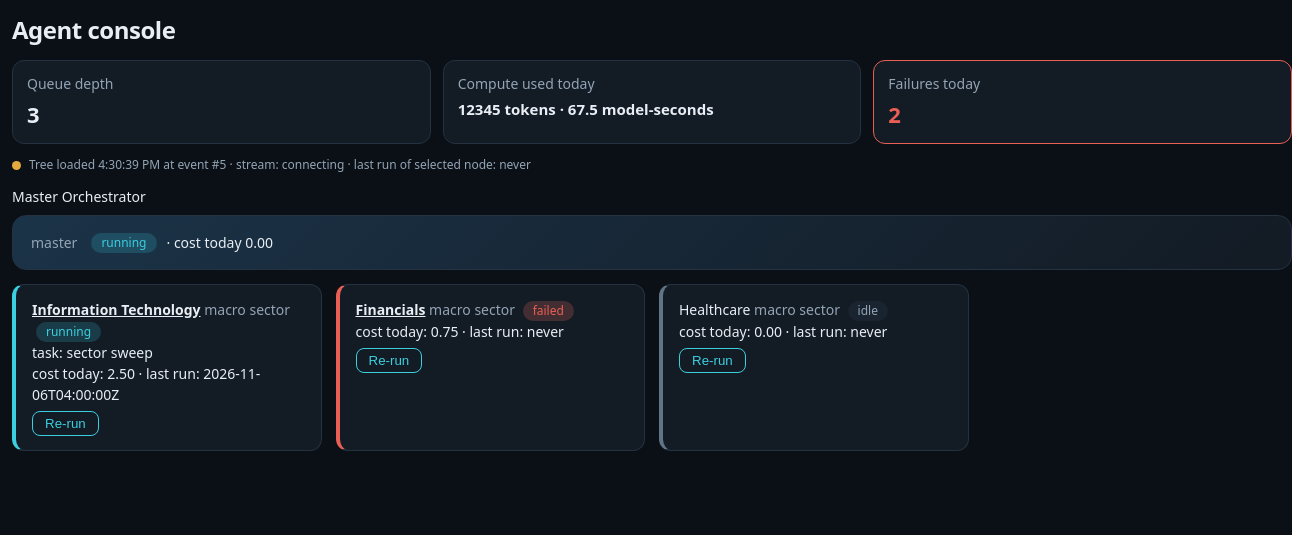
Scenario: agent console › a new re-run clears the previous message for that node
The image size is (1292, 535).
What coordinates should you click on to do the following:
click the button with aria-label "re-run Information Technology"
I would click on:
 (65, 424)
Its box is [32, 411, 99, 436].
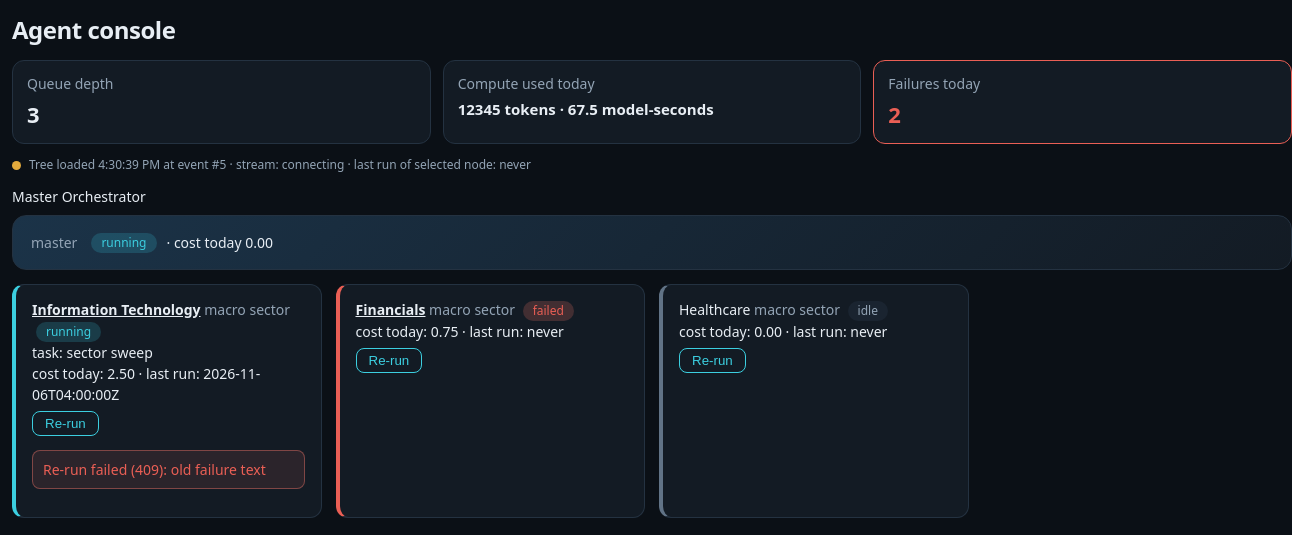
Expected: the text "Re-run failed (409): old failure text" is shown, [32, 450, 304, 489]
What coordinates should you click on to do the following:
click the button with aria-label "re-run Information Technology"
I would click on:
 (65, 424)
Its box is [32, 411, 99, 436].
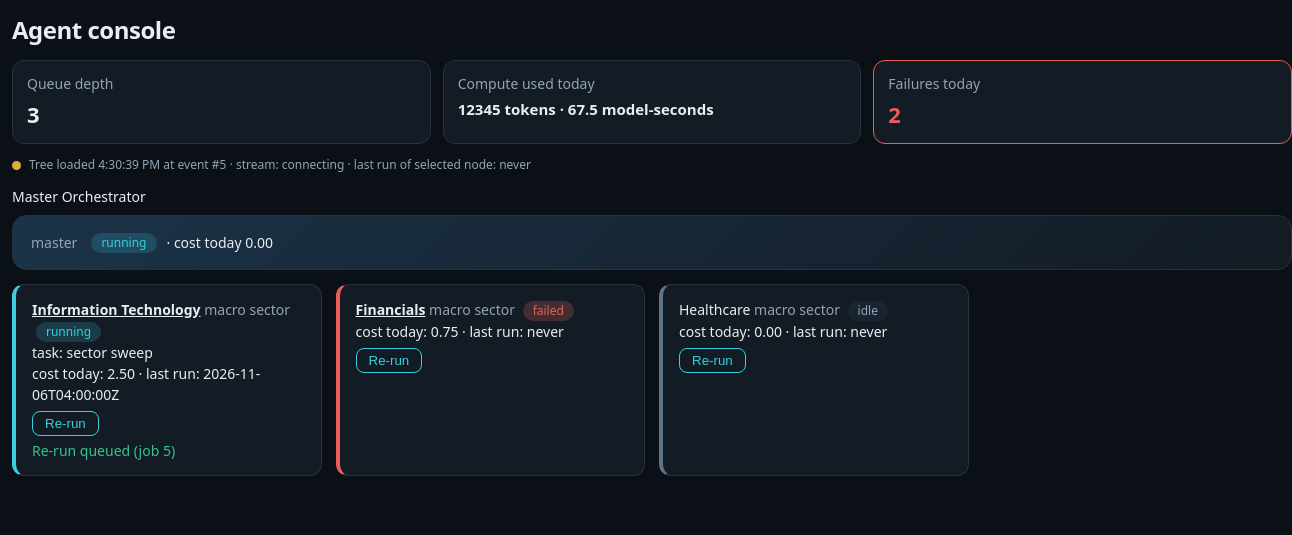
Expected: the message shows "job 5", [32, 441, 175, 460]
Expected: the text "old failure text" is gone
